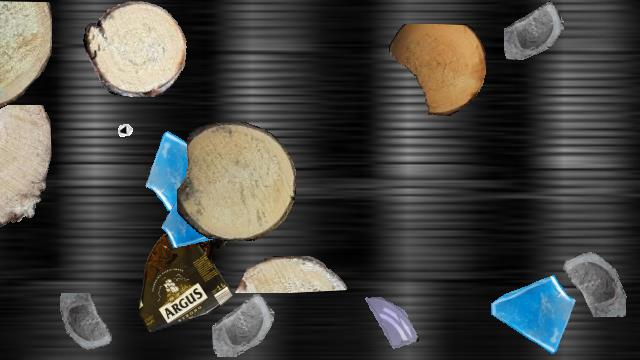glass: (143, 124, 235, 216), (487, 269, 577, 359), (553, 240, 629, 316), (55, 293, 121, 359), (161, 190, 225, 254), (212, 294, 274, 356), (504, 1, 564, 61), (362, 295, 420, 353)
metal: (115, 107, 153, 145)
plastic: (139, 224, 233, 332)
wood: (177, 122, 295, 240), (83, 1, 187, 97), (389, 24, 485, 116), (0, 105, 51, 233), (0, 1, 52, 109), (233, 256, 347, 292)
